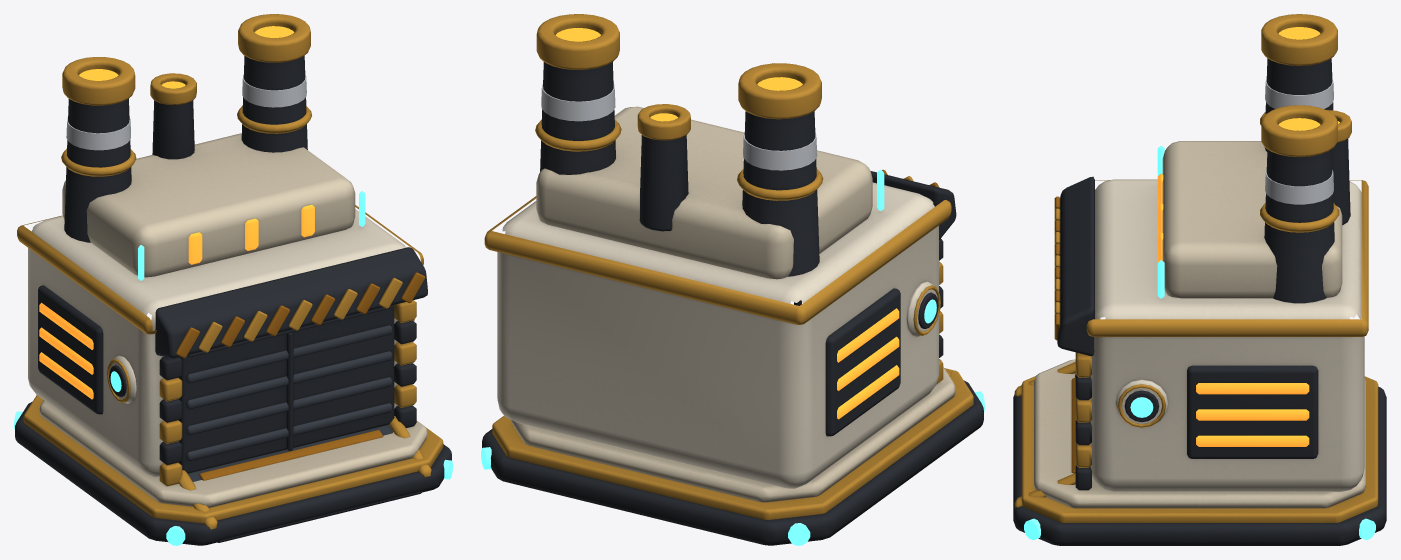
File: ambron_forge.glb
3 views of the same model, side by side, from view 1: azimuth 30°, elevation 25°; view 2: azimuth 150°, elevation 25°; view 3: azimuth 270°, elevation 25° (orthographic). The views are drawn at different scales.
Parts seen in each view (by area): view 1: ambron_forge; view 2: ambron_forge; view 3: ambron_forge.
Boxes of the visible parts, left/top/right/bottom form: ambron_forge: left=14, top=14, right=452, bottom=545; ambron_forge: left=481, top=14, right=984, bottom=545; ambron_forge: left=1013, top=14, right=1386, bottom=545.
Bounding box in the file's own units: 2.7 × 3.16 × 2.7.
Materials: 4 (1 with a texture image).
